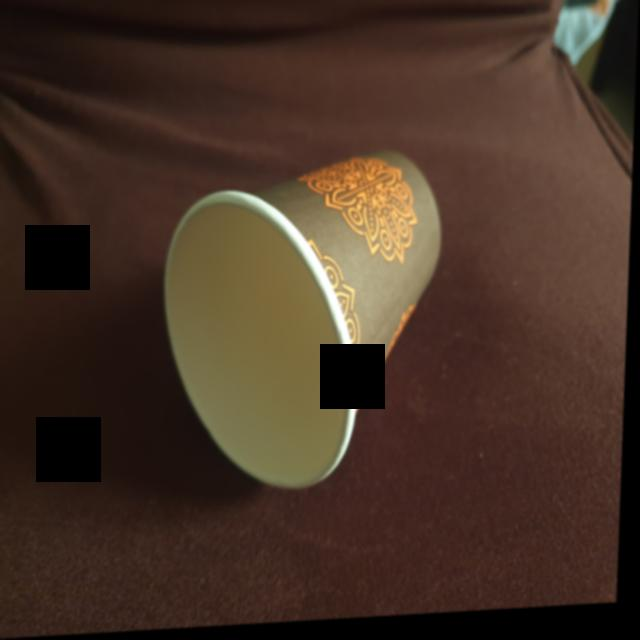cups: (150, 144, 452, 507)
